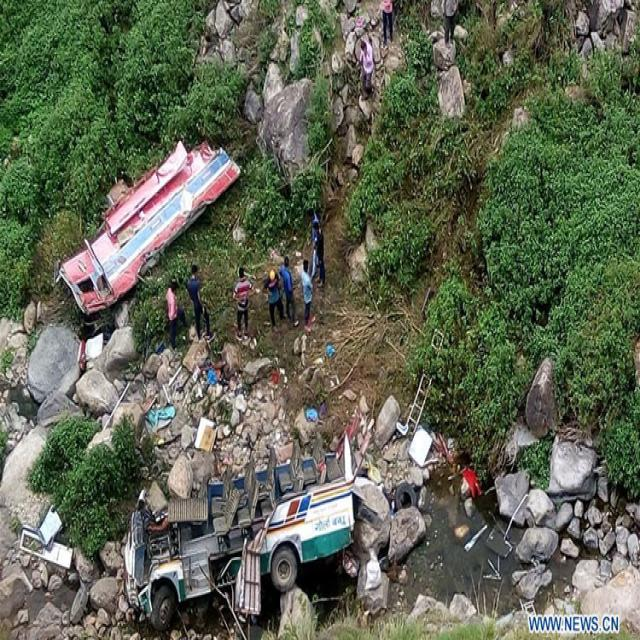accident: (124, 411, 369, 631)
